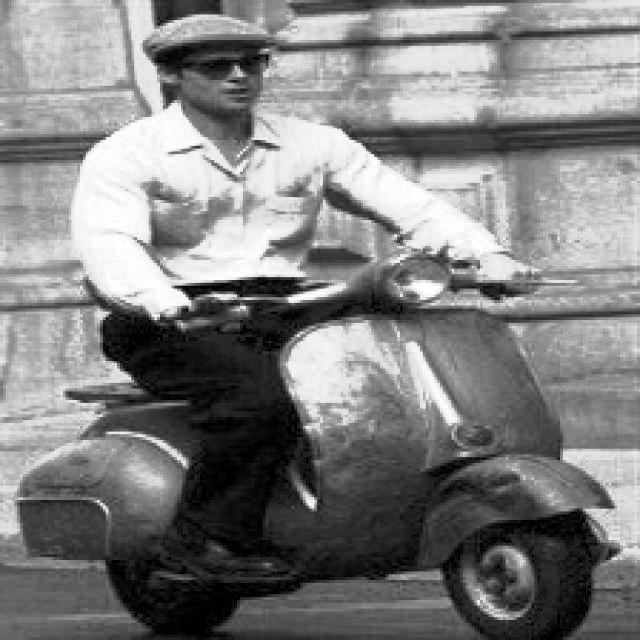Bike: (55, 277, 609, 638)
